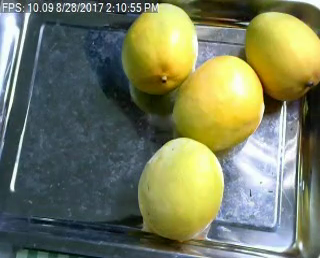Mango: (136, 139, 223, 241), (173, 54, 265, 146), (120, 1, 199, 91), (247, 11, 320, 100)
